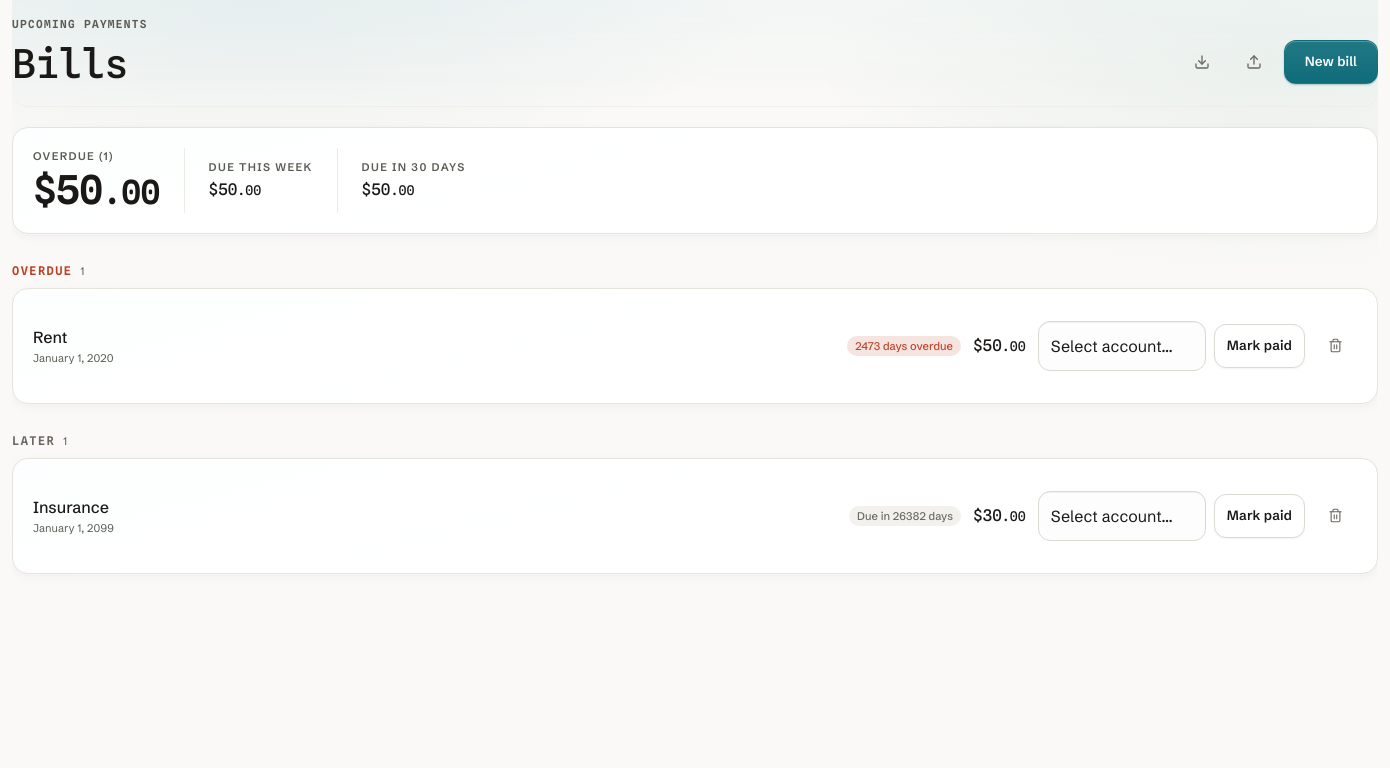
Test: BillsPage › confirms a payment with a toast
Click the button "Mark paid" in the row of "2473 days overdue" at point(1259, 346), box [1214,324,1305,368]
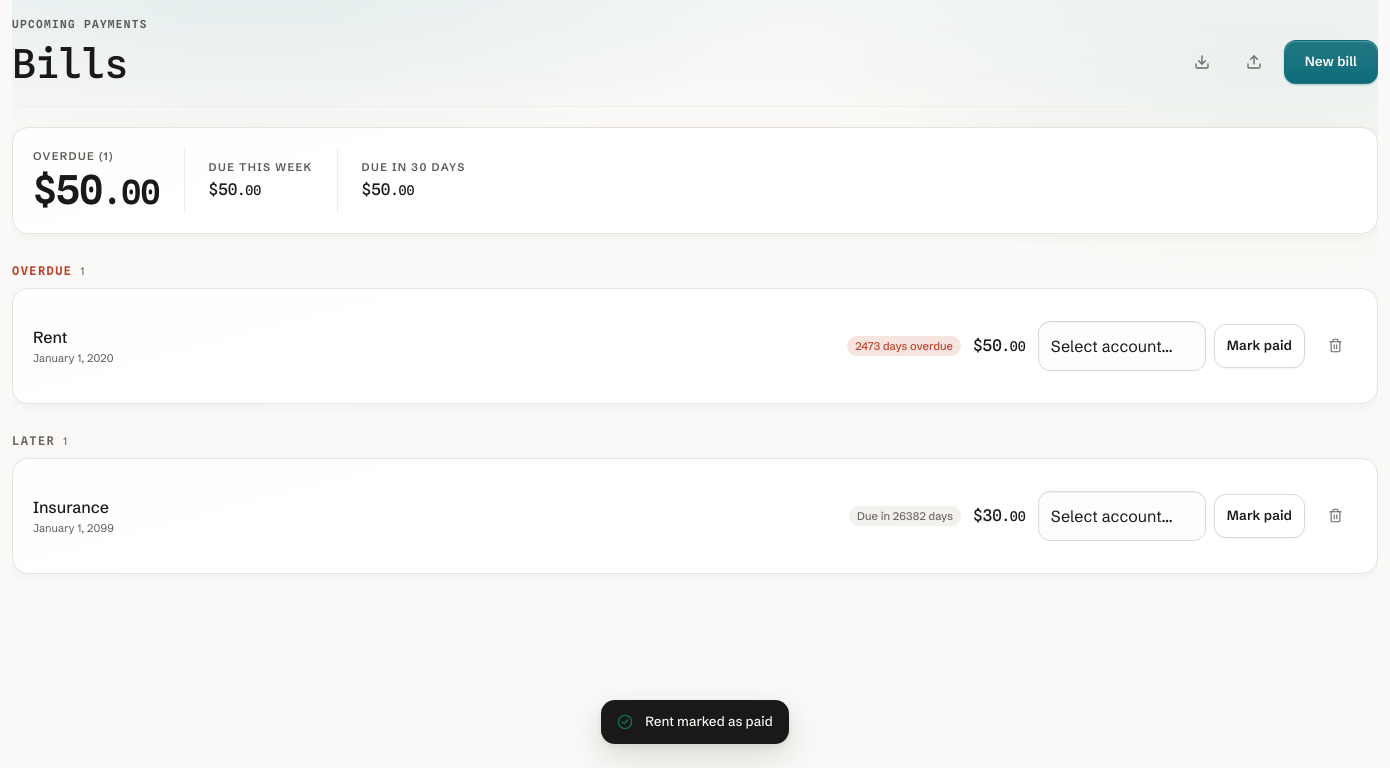
Expected: the text "Rent marked as paid" is shown, [645,712,773,732]
